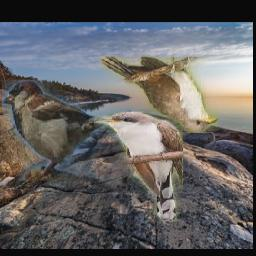Cuckoo: (95, 112, 184, 225), (100, 57, 218, 133)
Sparrow: (3, 80, 134, 181)
